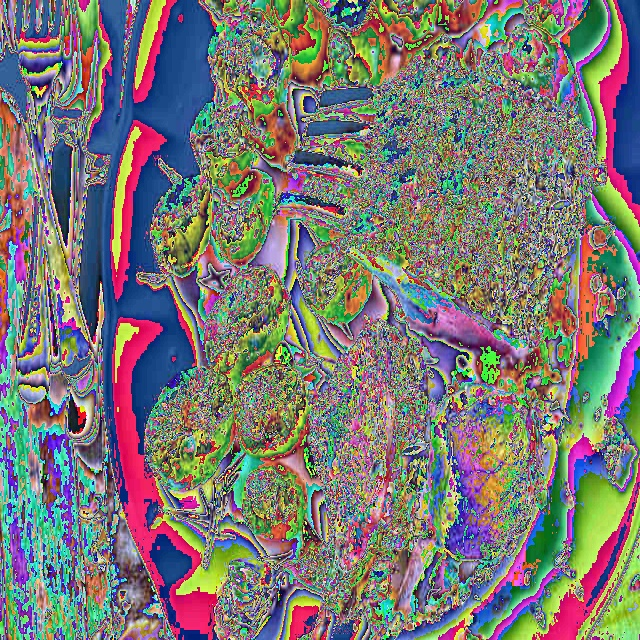background: (142, 0, 596, 640)
